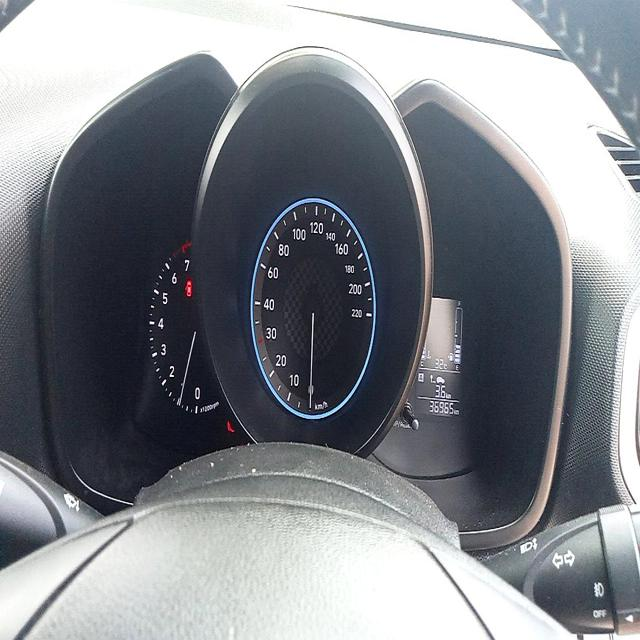odometer: (429, 398, 454, 416)
